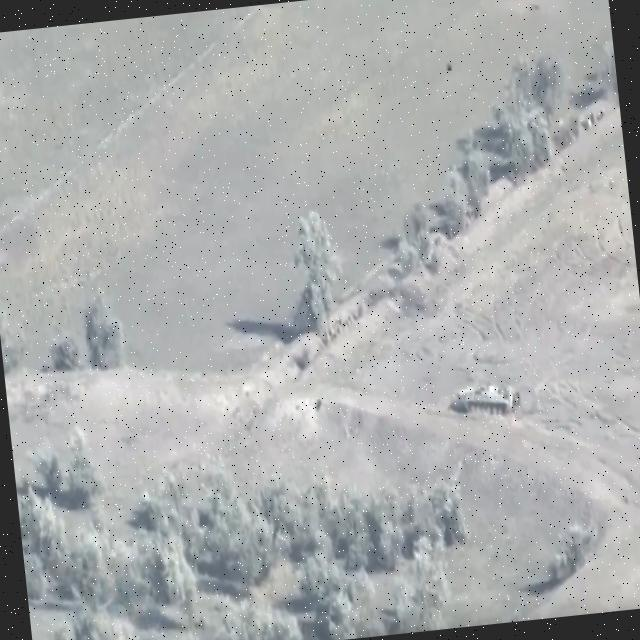AIFV: (451, 373, 528, 420)
